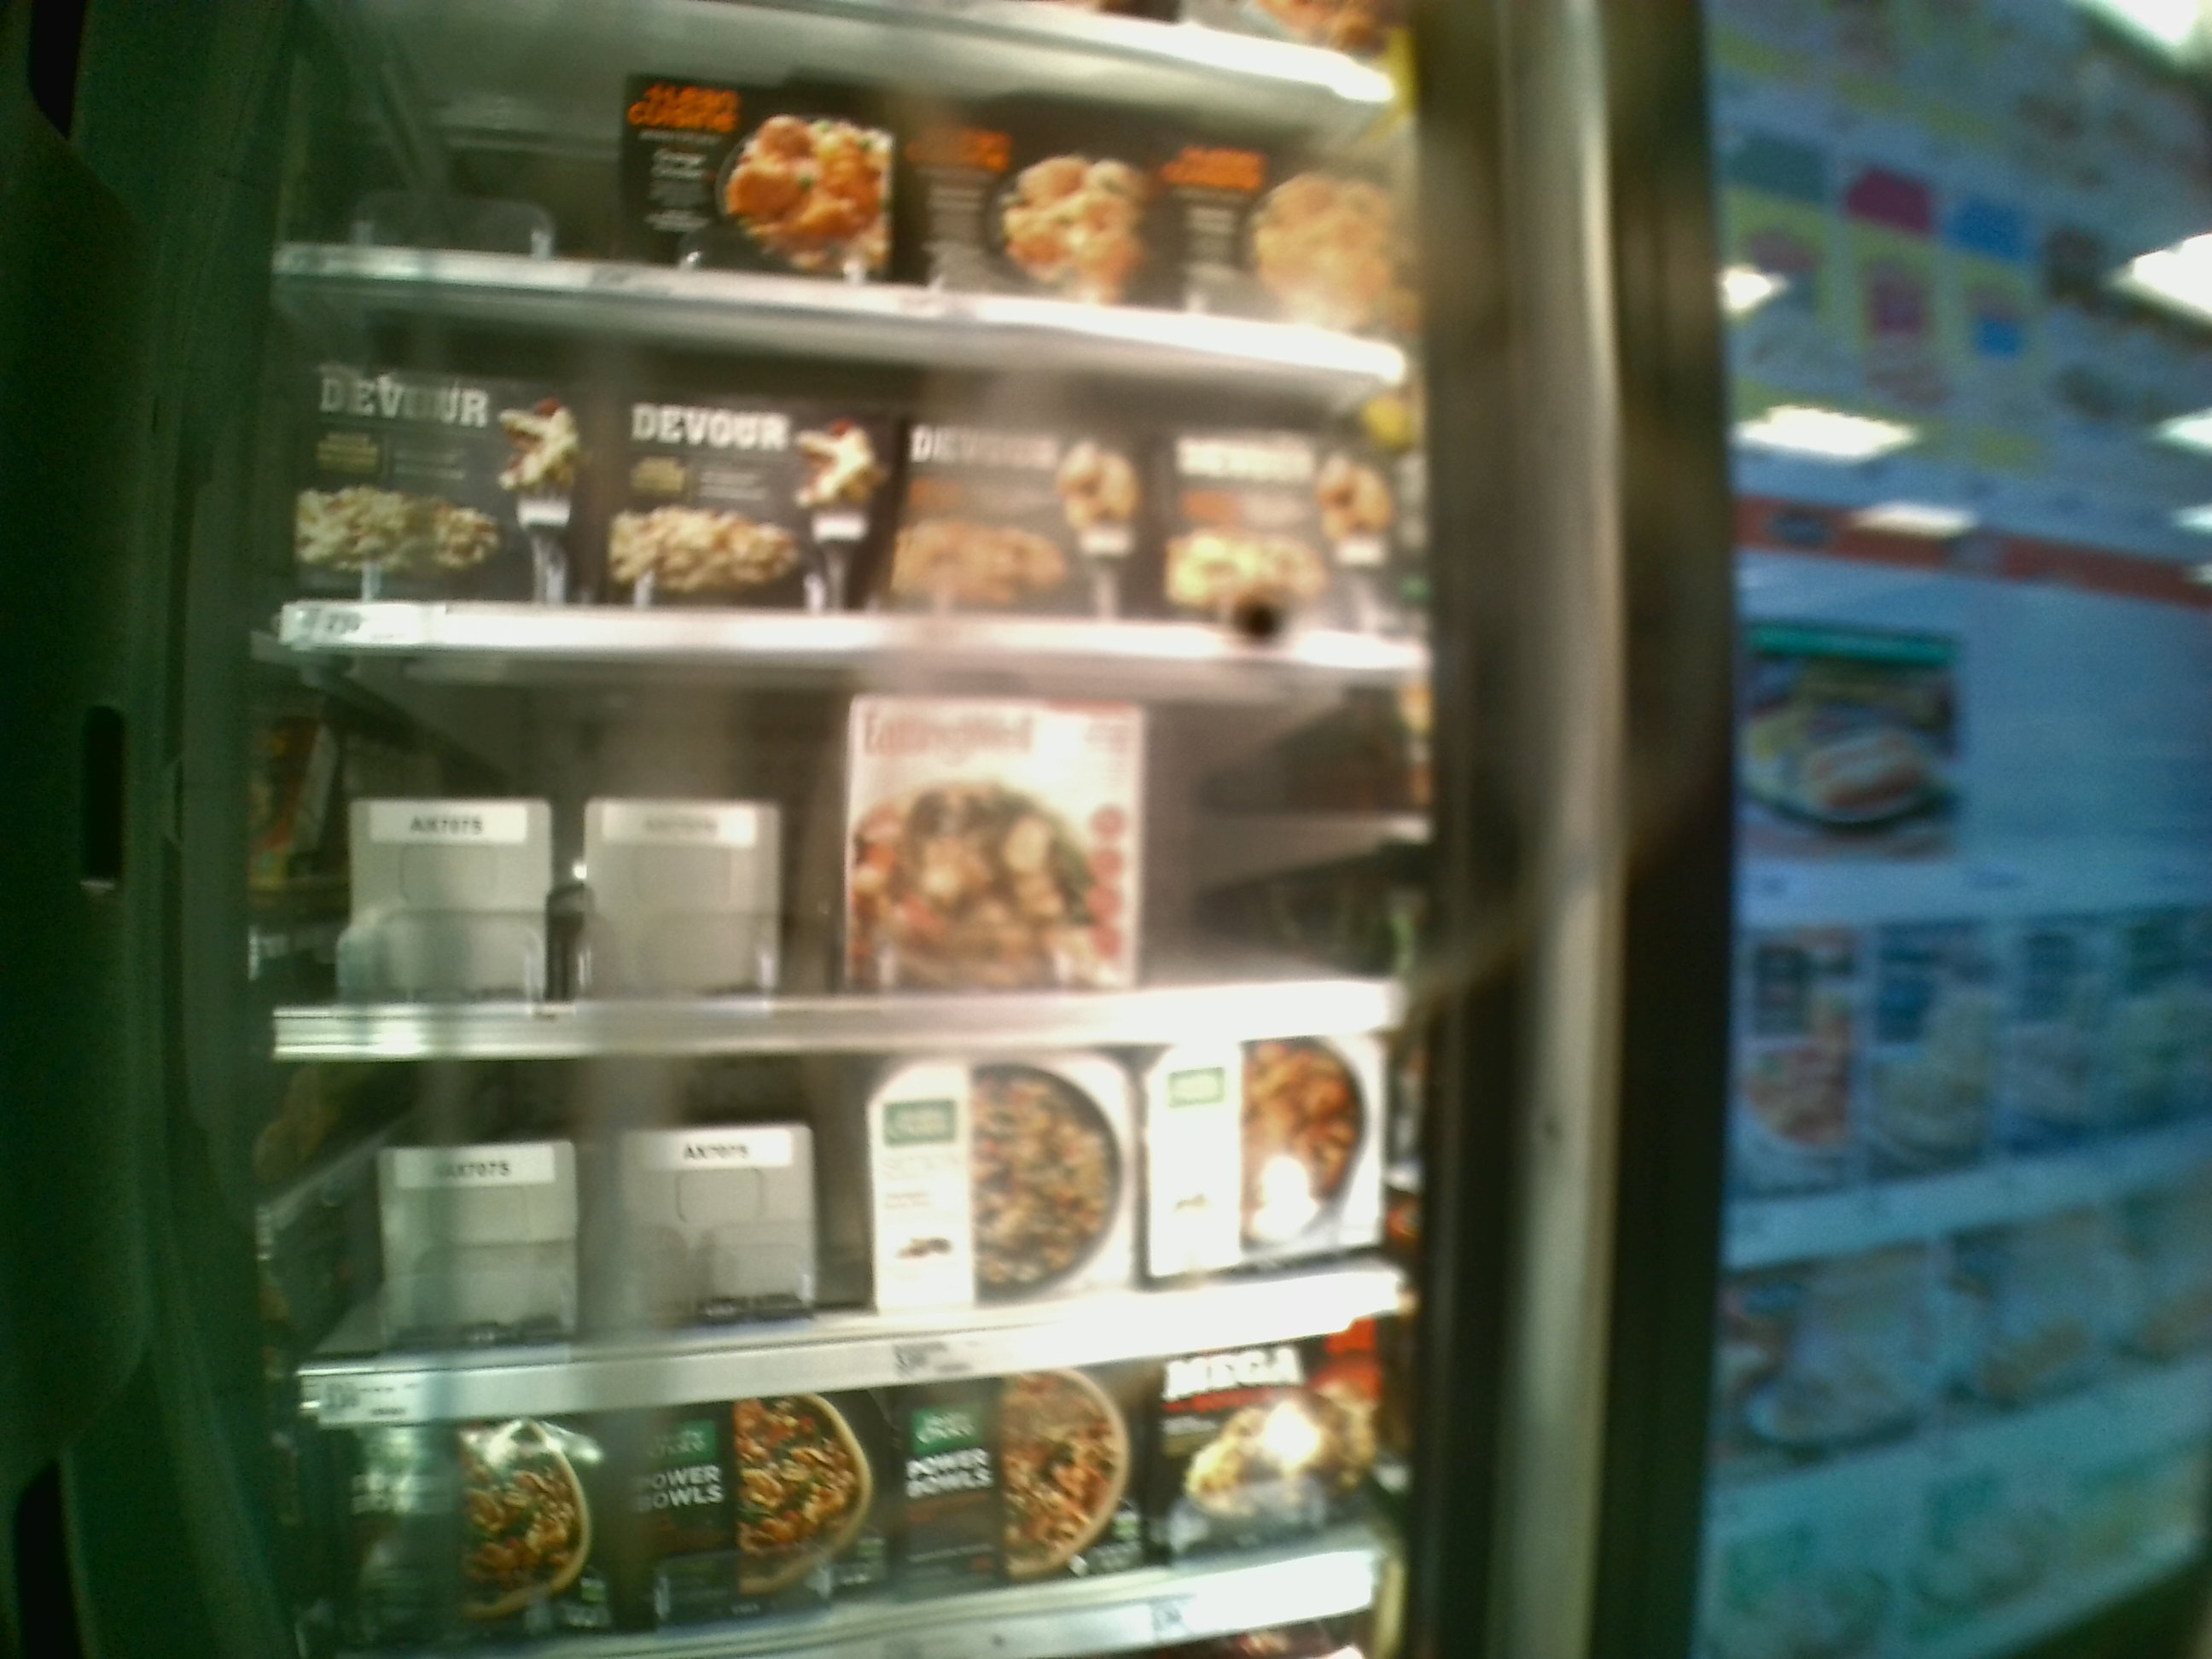shelf: (261, 641, 1435, 1068), (256, 277, 1435, 667)
